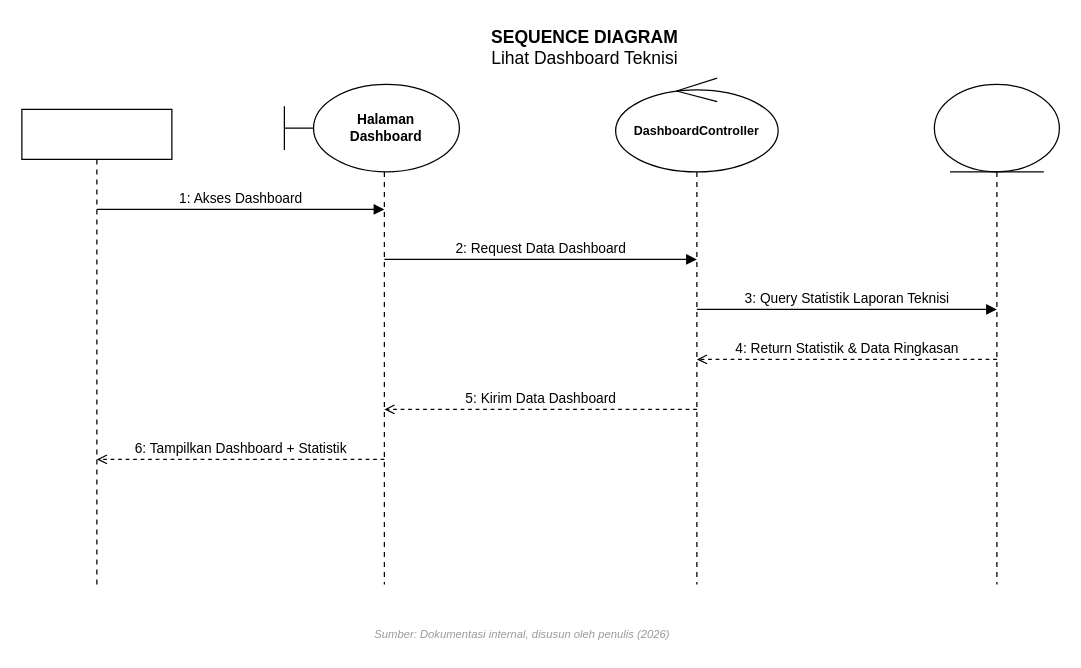
The diagram is 1081 pixels wide and 668 high, and some of its shapes have lost their labels. The shapes that lost their labels are listed below. From the top down, each one's centre as x and y in pixels, then its label:
pixel 96 133: Teknisi
pixel 996 127: Database
